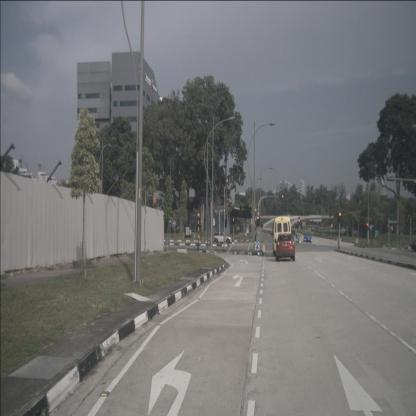vehicle-bus-rigid: (272, 216, 292, 256)
vehicle-car: (275, 233, 295, 261), (213, 233, 232, 244), (304, 232, 312, 243)
